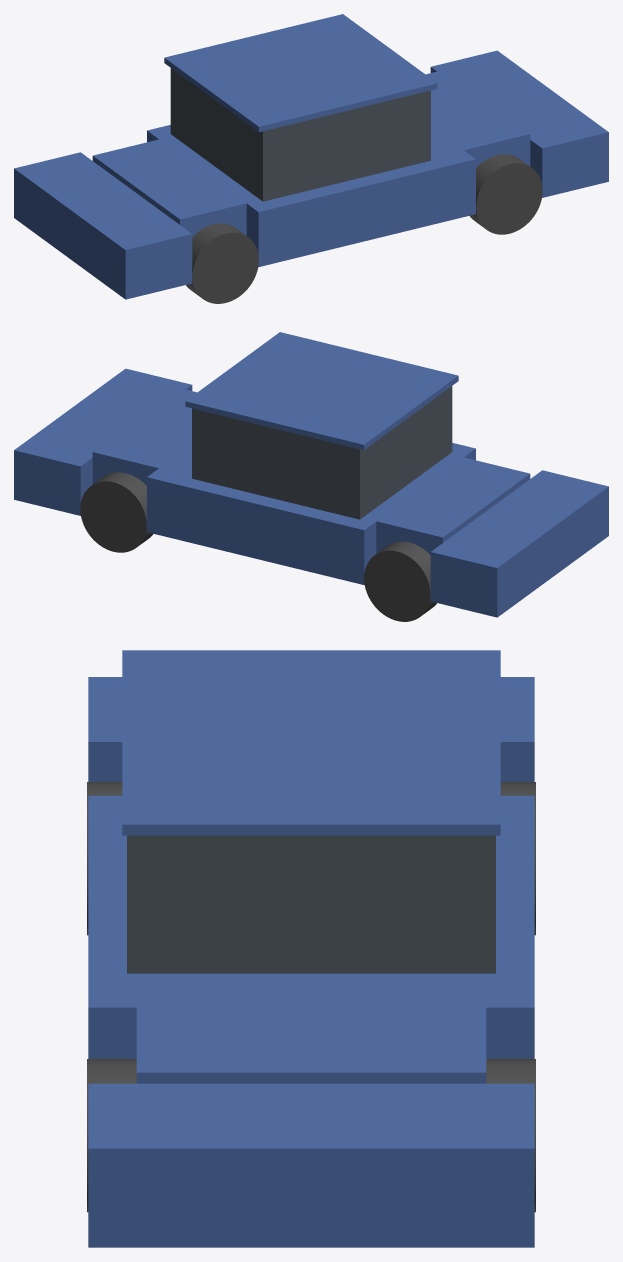
Rendered from sedan.glb.
The picture shows the model from 3 angles, top to bottom: view 1: azimuth 30°, elevation 25°; view 2: azimuth 150°, elevation 25°; view 3: azimuth 270°, elevation 25°; orthographic projection. The views are drawn at different scales.
Parts seen in each view (by area): view 1: roof, glasshouse, body_mid, bumper_r, bumper_f, axle_block_r, axle_block_f, wheel_rr, wheel_fr; view 2: roof, glasshouse, body_mid, bumper_r, bumper_f, axle_block_r, axle_block_f, wheel_rl, wheel_fl; view 3: bumper_f, roof, glasshouse, body_mid, axle_block_f, bumper_r, wheel_fl, wheel_fr, wheel_rl, wheel_rr.
Boxes of the visible parts, x1,y1,x2,y2 form: roof: (164, 14, 437, 132); glasshouse: (170, 68, 430, 201); body_mid: (147, 125, 475, 266); bumper_r: (14, 152, 192, 299); bumper_f: (430, 50, 608, 197); axle_block_r: (92, 139, 246, 236); axle_block_f: (426, 70, 530, 167); wheel_rr: (186, 223, 258, 303); wheel_fr: (469, 154, 542, 234); roof: (185, 332, 458, 450); glasshouse: (192, 386, 452, 519); body_mid: (147, 443, 475, 584); bumper_r: (430, 470, 608, 617); bumper_f: (14, 368, 192, 515); axle_block_r: (376, 457, 530, 554); axle_block_f: (92, 388, 196, 485); wheel_rl: (364, 541, 436, 621); wheel_fl: (80, 472, 153, 552); bumper_f: (88, 1083, 534, 1247); roof: (122, 650, 500, 835); glasshouse: (127, 835, 495, 973); body_mid: (88, 795, 534, 1058); axle_block_f: (136, 1007, 486, 1083); bumper_r: (88, 677, 534, 781); wheel_fl: (486, 1059, 535, 1212); wheel_fr: (87, 1059, 136, 1212); wheel_rl: (500, 782, 535, 935); wheel_rr: (87, 782, 122, 935).
Bounding box in the file's own units: 4.6 × 1.45 × 1.85.
